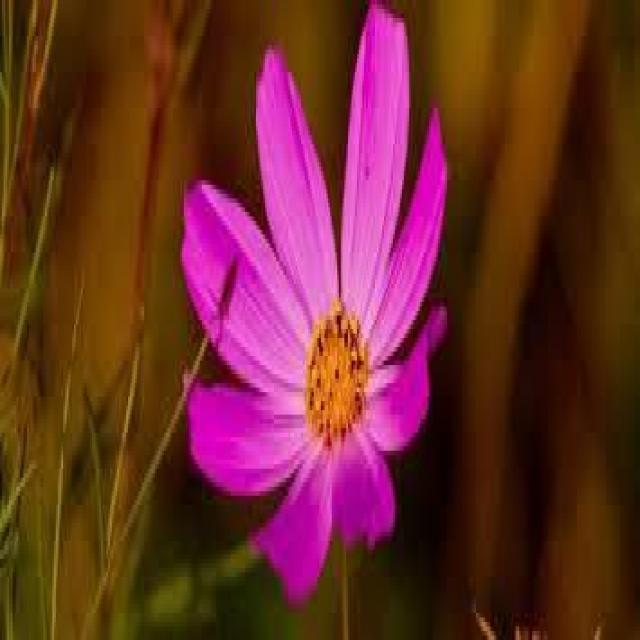organic waste: (175, 13, 470, 568)
